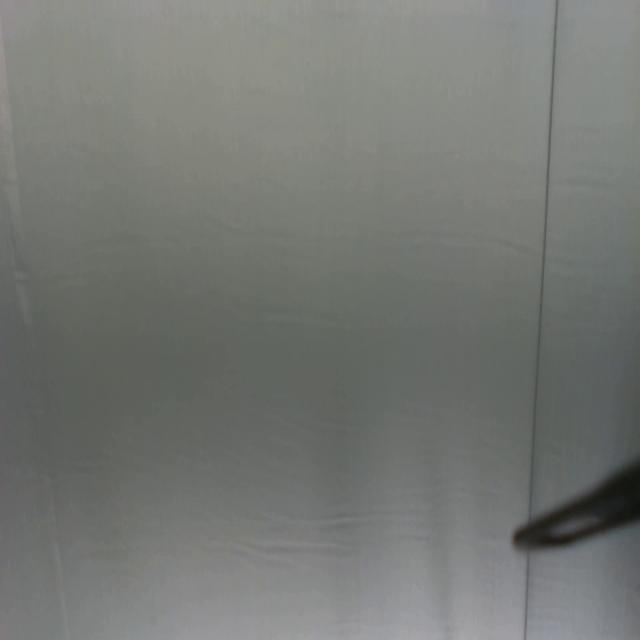crease: (528, 0, 561, 507), (521, 548, 532, 640)
